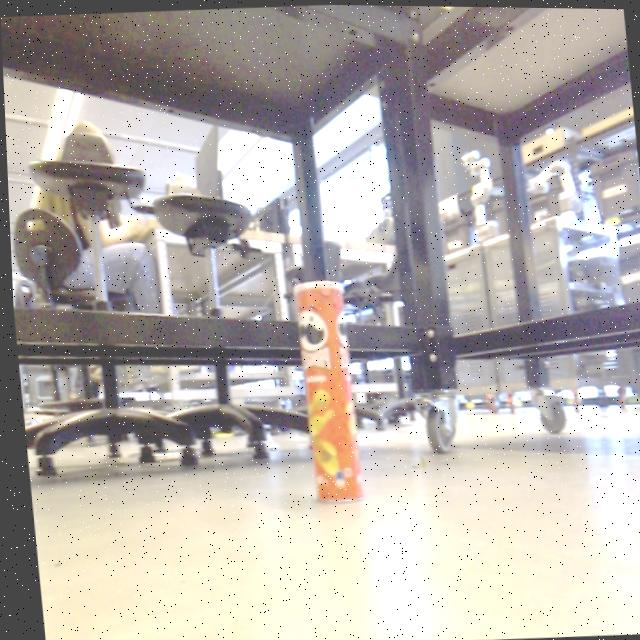redpringles: (283, 263, 367, 517)
